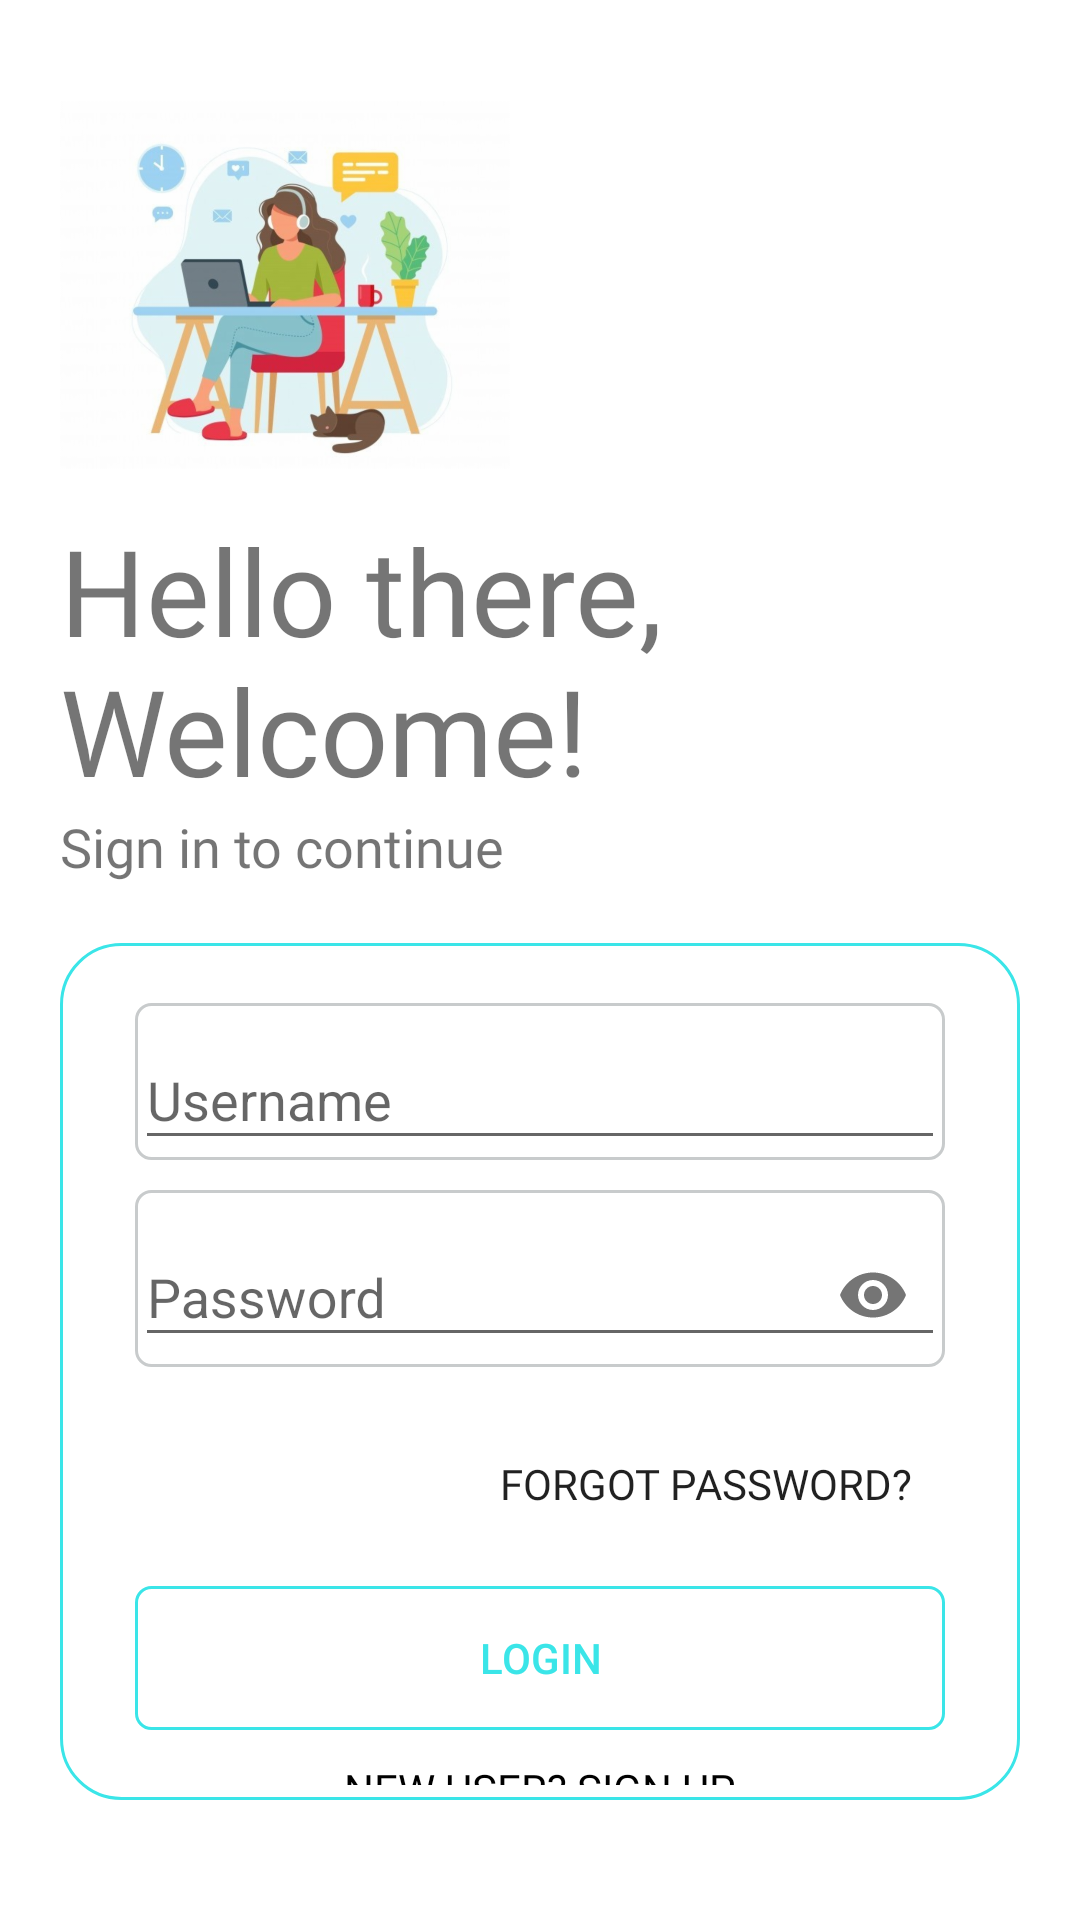

Where to tap for icons on this 1080px x 1920px app screen, as point (x, y):
work home: point (289, 299)
